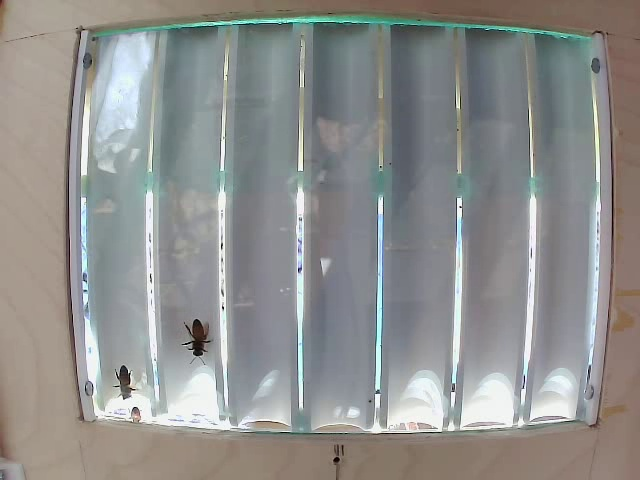bee: (180, 316, 231, 371), (120, 356, 150, 394)
